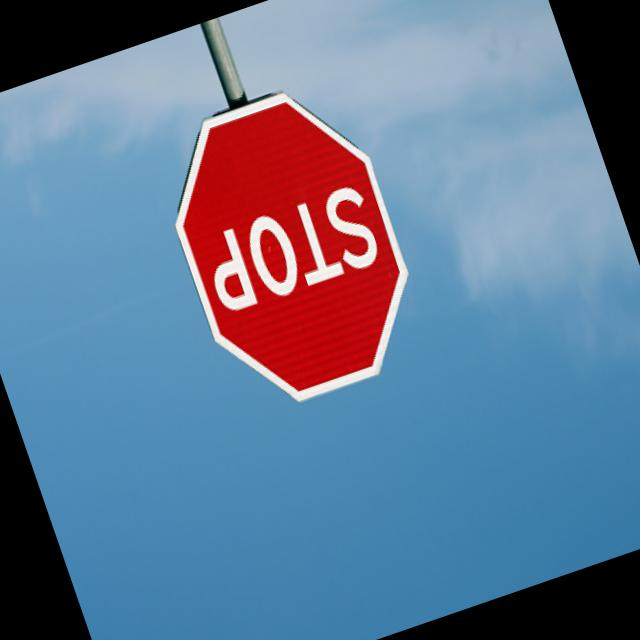stop: (136, 66, 444, 431)
